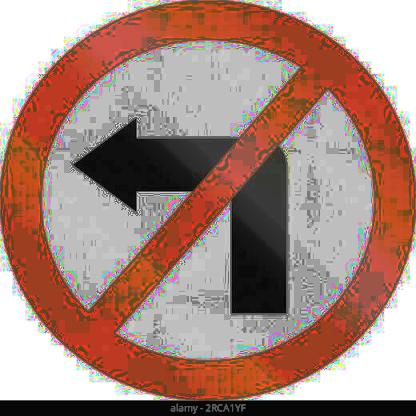No left turn: (6, 0, 416, 399)
